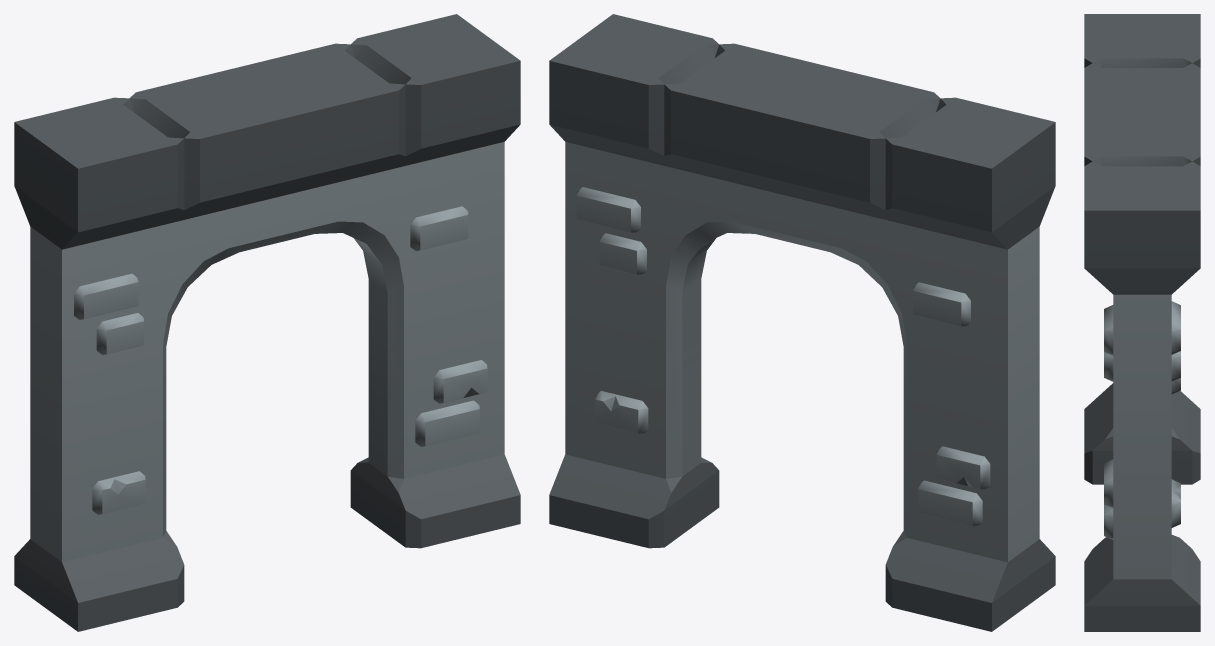
The model's file is wall_doorway.obj.
The picture shows the model from 3 angles, left to right: view 1: azimuth 30°, elevation 25°; view 2: azimuth 150°, elevation 25°; view 3: azimuth 270°, elevation 25°; orthographic projection. The views are drawn at different scales.
Parts seen in each view (by area): view 1: wall_doorway; view 2: wall_doorway; view 3: wall_doorway.
Boxes of the visible parts, x1=… form: wall_doorway: x1=14, y1=14, x2=520, y2=631; wall_doorway: x1=549, y1=14, x2=1055, y2=631; wall_doorway: x1=1084, y1=14, x2=1200, y2=631.
Size of the model in its own units: 4 by 4 by 1.
1 material, 1 textured.
